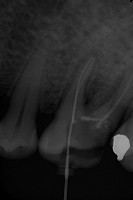Dental Caries: (74, 48, 107, 105)
